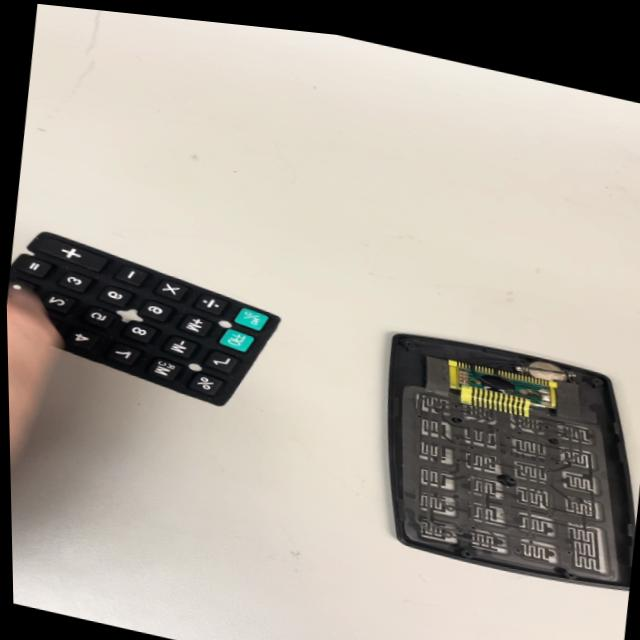front_panel: (360, 312, 640, 604)
number_pad: (5, 215, 312, 423)
